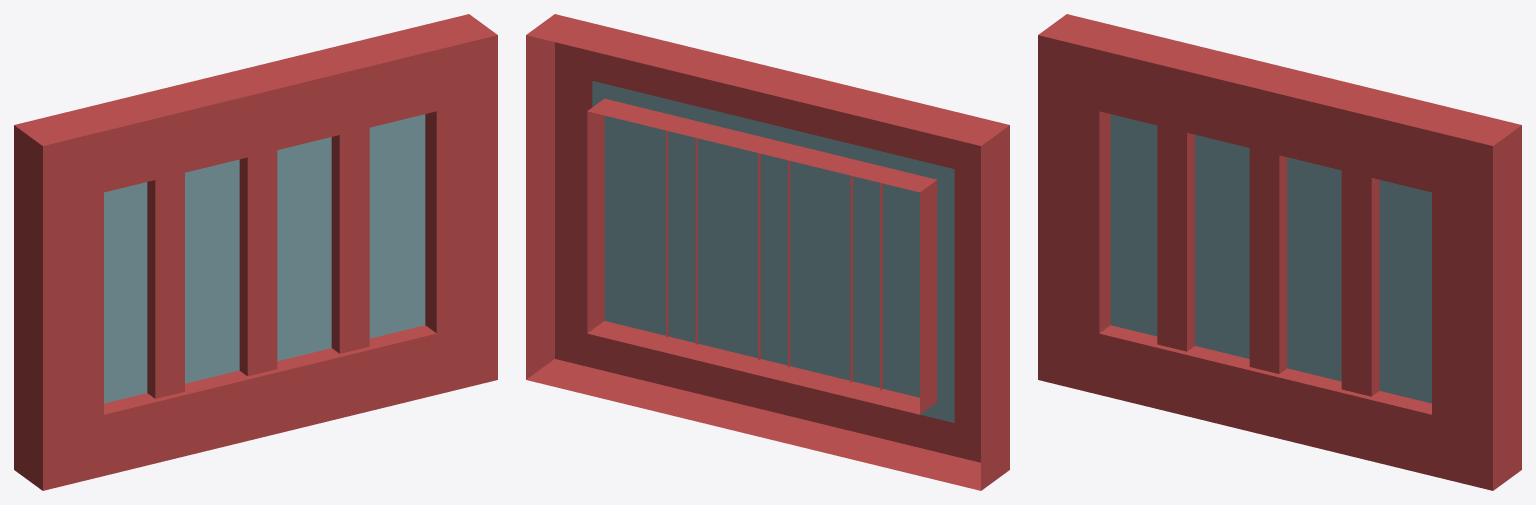
The model's file is House (Window over door 1).fbx.
3 renders of one model, left to right at view 1: azimuth 30°, elevation 25°; view 2: azimuth 150°, elevation 25°; view 3: azimuth 330°, elevation 25°, orthographic.
Parts seen in each view (by area): view 1: House (Window over door)1; view 2: House (Window over door)1; view 3: House (Window over door)1.
Part boxes in pixels (<box>): House (Window over door)1: <box>14,14,497,490</box>; House (Window over door)1: <box>526,14,1009,490</box>; House (Window over door)1: <box>1038,14,1521,490</box>.
Bounding box in the file's own units: 420 × 304 × 46.12.
